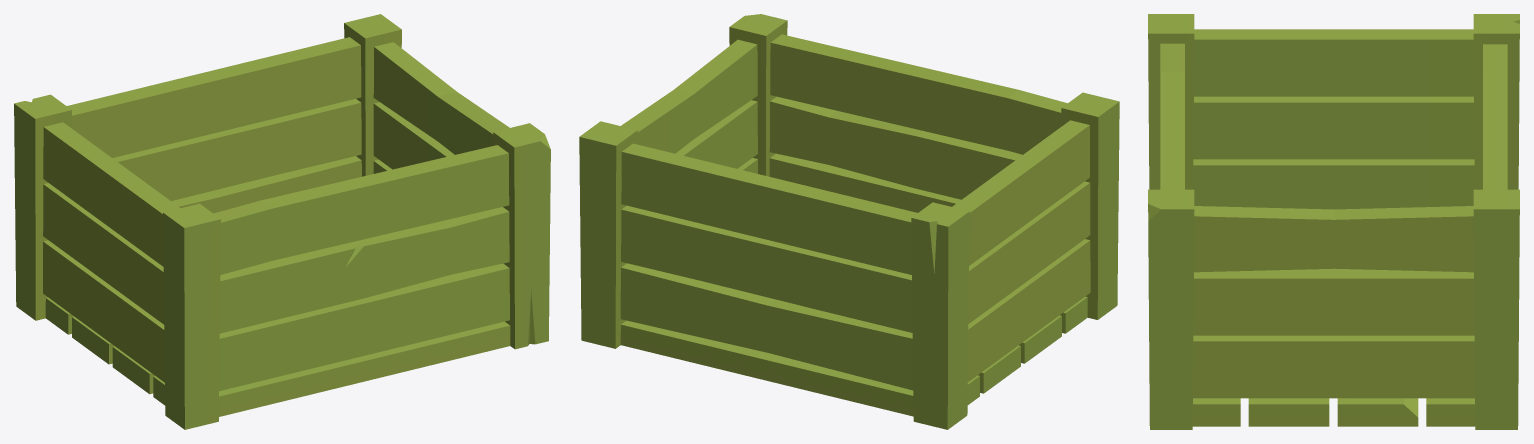
3 renders of one model, left to right at view 1: azimuth 30°, elevation 25°; view 2: azimuth 150°, elevation 25°; view 3: azimuth 270°, elevation 25°, orthographic. The views are drawn at different scales.
Visible parts, largest first — view 1: Box_05; view 2: Box_05; view 3: Box_05.
Part boxes in pixels (bbox=[...]): Box_05: bbox=[14, 14, 550, 429]; Box_05: bbox=[579, 14, 1119, 429]; Box_05: bbox=[1148, 14, 1519, 429].
Bounding box in the file's own units: 0.666 × 0.3518 × 0.5355.
